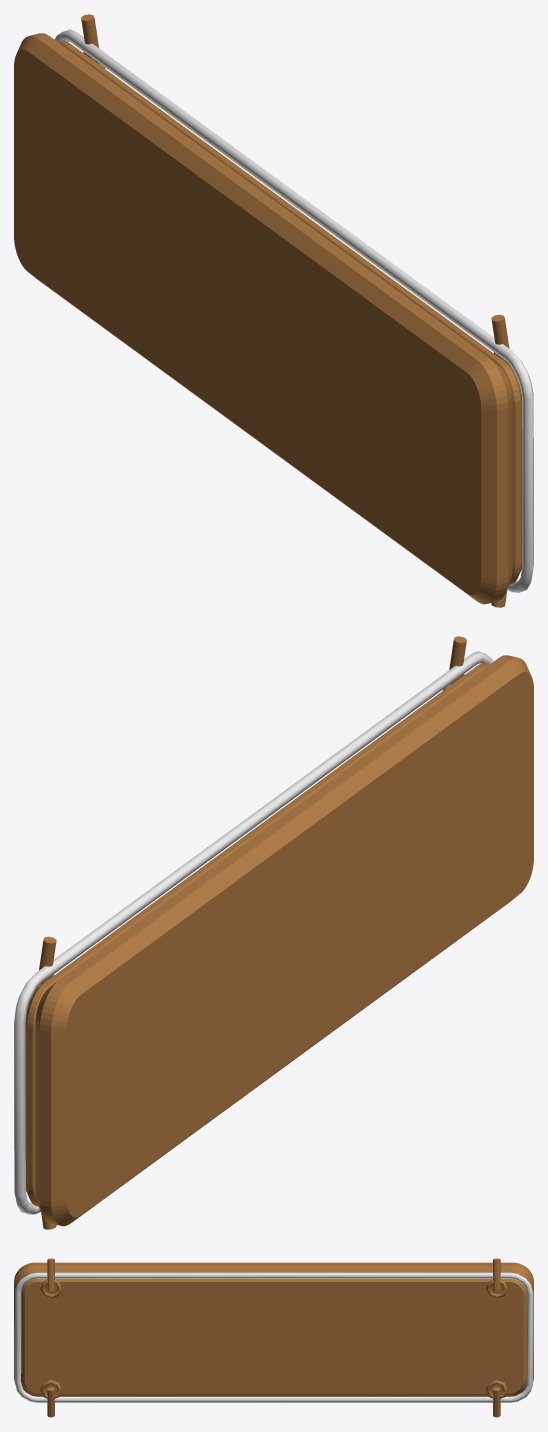
The model's file is SM_Menu_ButtonPlaque.fbx.
3 views of the same model, one above another, from view 1: azimuth 30°, elevation 25°; view 2: azimuth 150°, elevation 25°; view 3: azimuth 270°, elevation 25° (orthographic). The views are drawn at different scales.
Visible parts, largest first — view 1: SM_Menu_ButtonPlaque; view 2: SM_Menu_ButtonPlaque; view 3: SM_Menu_ButtonPlaque.
Part boxes in pixels (<box>): SM_Menu_ButtonPlaque: <box>14,14,533,607</box>; SM_Menu_ButtonPlaque: <box>14,636,533,1229</box>; SM_Menu_ButtonPlaque: <box>14,1258,533,1417</box>.
Bounding box in the file's own units: 9.4 × 133 × 44.28.
